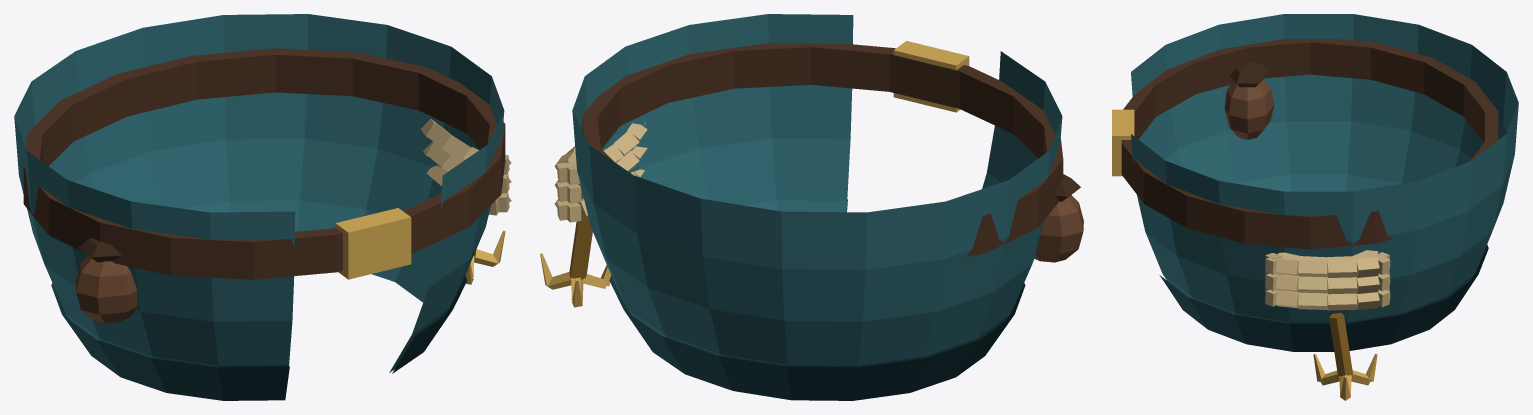
The model's file is sky_pirate_coat.glb.
3 views of the same model, side by side, from view 1: azimuth 30°, elevation 25°; view 2: azimuth 150°, elevation 25°; view 3: azimuth 270°, elevation 25° (orthographic). The views are drawn at different scales.
Visible parts, largest first — view 1: sky_pirate_coat; view 2: sky_pirate_coat; view 3: sky_pirate_coat.
Boxes of the visible parts, x1,y1,x2,y2 form: sky_pirate_coat: [14, 14, 511, 400]; sky_pirate_coat: [540, 14, 1083, 400]; sky_pirate_coat: [1112, 14, 1518, 400].
Bounding box in the file's own units: 1.08 × 0.4807 × 0.915.
